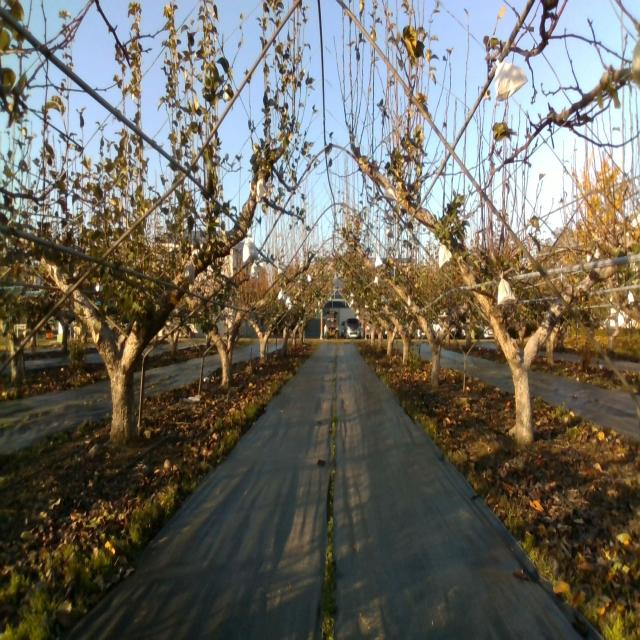pearbags: (494, 58, 528, 100), (498, 273, 516, 306), (242, 231, 258, 262), (182, 259, 196, 284), (255, 178, 268, 204), (438, 243, 452, 267), (384, 183, 398, 200)
